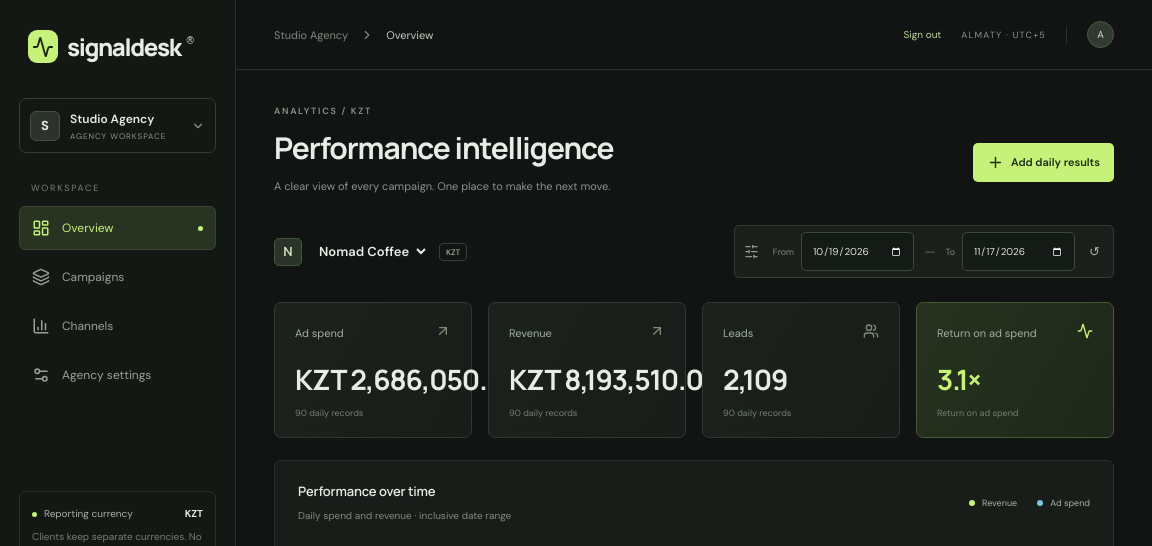
Test: Production authentication shell › renders authorized workspace and signs out using backend
Click the button "Sign out" at (922, 34), box [904, 24, 941, 45]
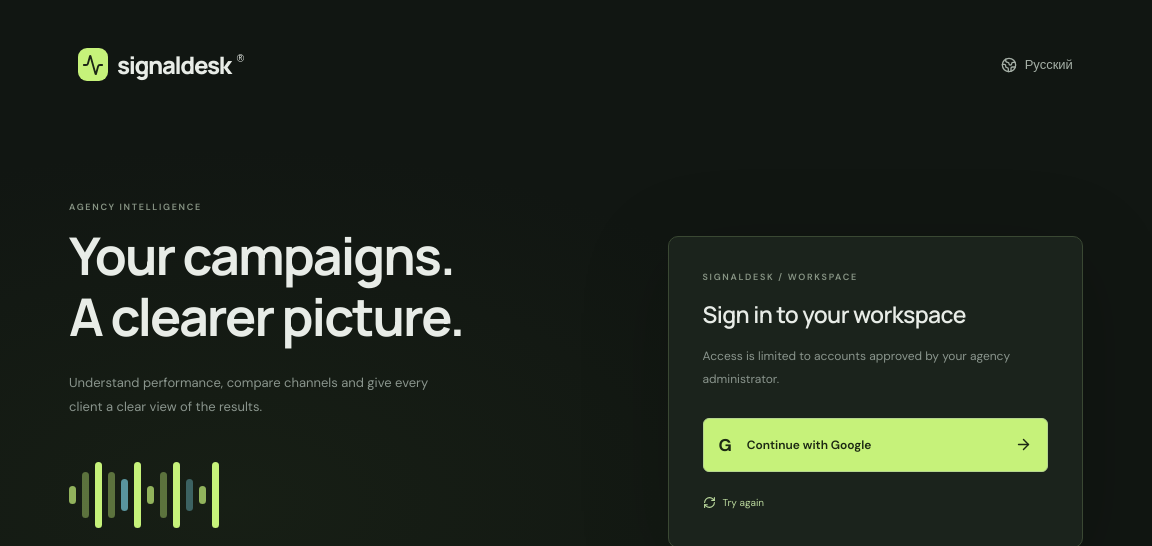
Expected: the link "G Continue with Google" is shown, [702, 418, 1048, 472]
